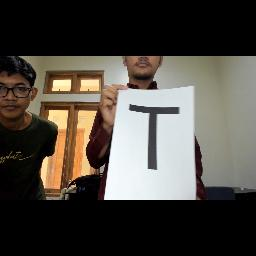t: (125, 102, 199, 184)
